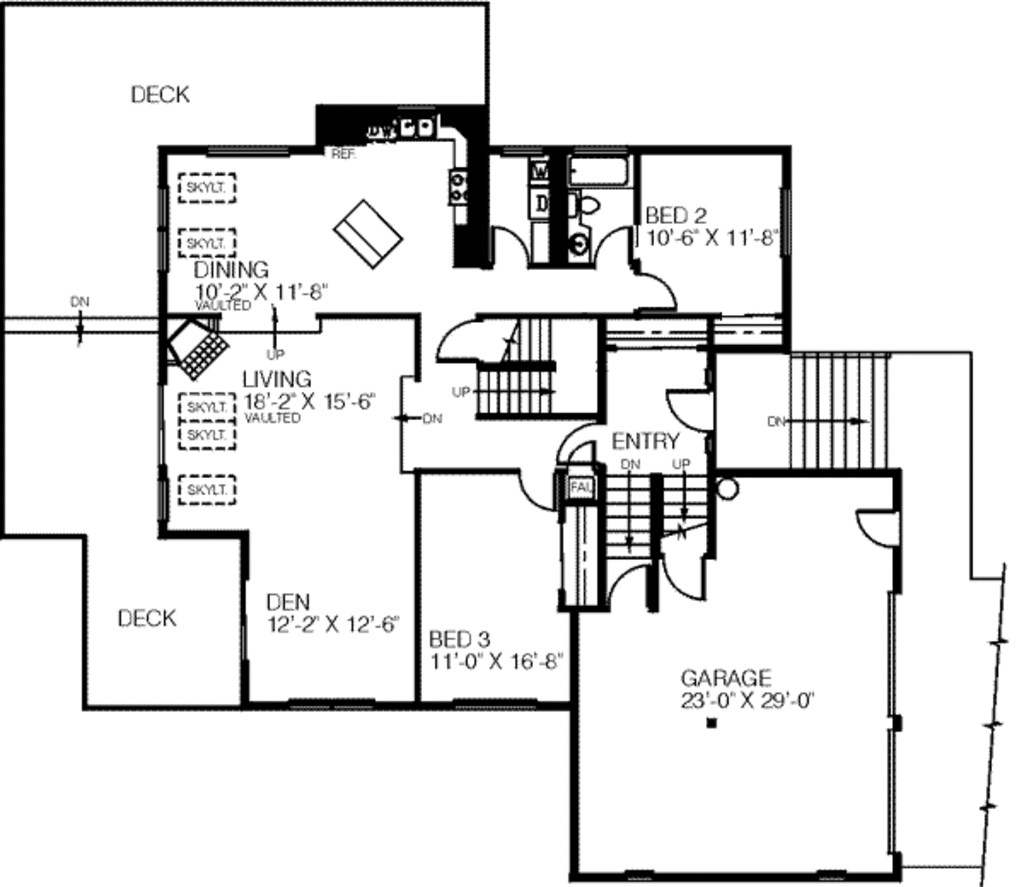door: (654, 549, 716, 611), (665, 382, 727, 441), (853, 500, 905, 556), (430, 318, 486, 367), (483, 223, 527, 278), (508, 463, 553, 516), (557, 423, 610, 461), (637, 271, 683, 312), (608, 567, 650, 608), (594, 226, 632, 268)
large_sink: (561, 185, 606, 219)
small_sink: (569, 222, 600, 268)
stairs: (720, 348, 904, 465), (478, 316, 602, 423), (654, 465, 726, 553), (604, 471, 649, 568)
tub: (567, 160, 645, 186)
twin_sink: (395, 108, 463, 144)
window: (152, 464, 180, 538), (153, 185, 176, 275), (201, 142, 294, 161), (457, 696, 539, 712), (287, 694, 374, 708)
